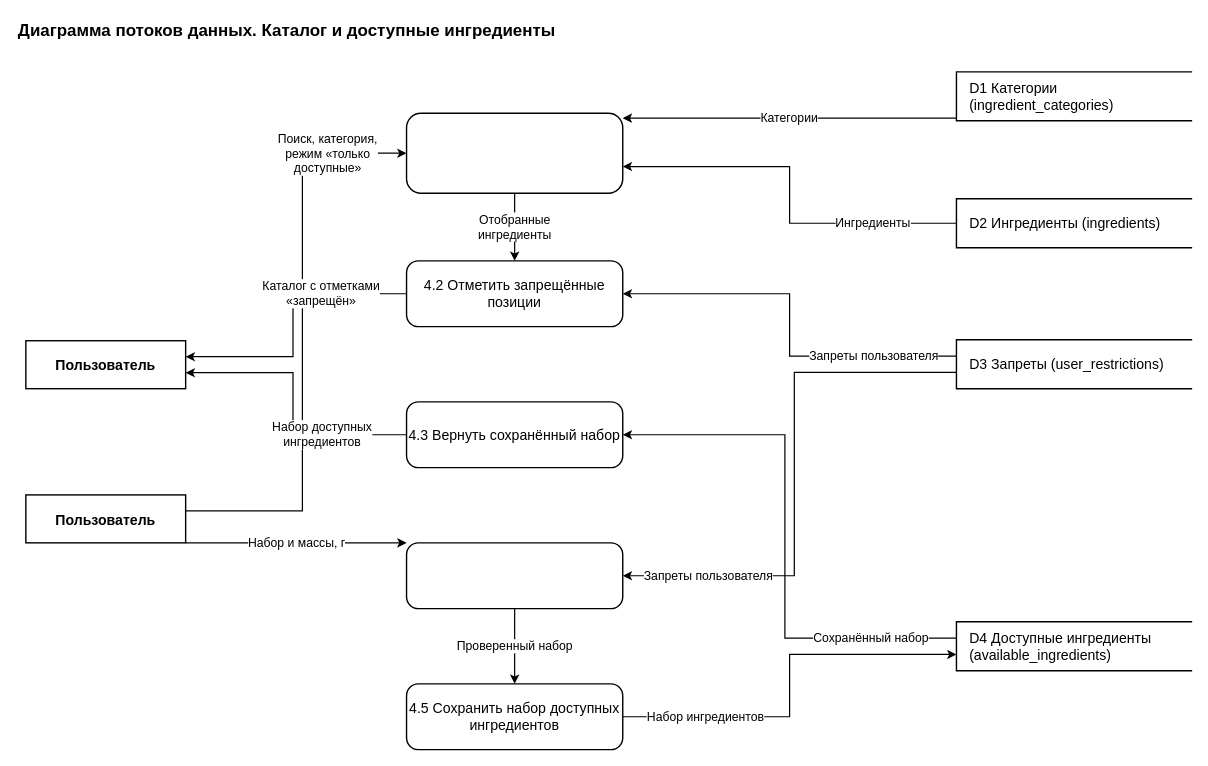
This 1208x766 diagram has some shape labels left out. Each missing label, with the centre of its shape:
"4.1 Отфильтровать каталог" belongs at point (514, 152).
"4.4 Проверить набор: повторы и запреты" belongs at point (514, 575).
